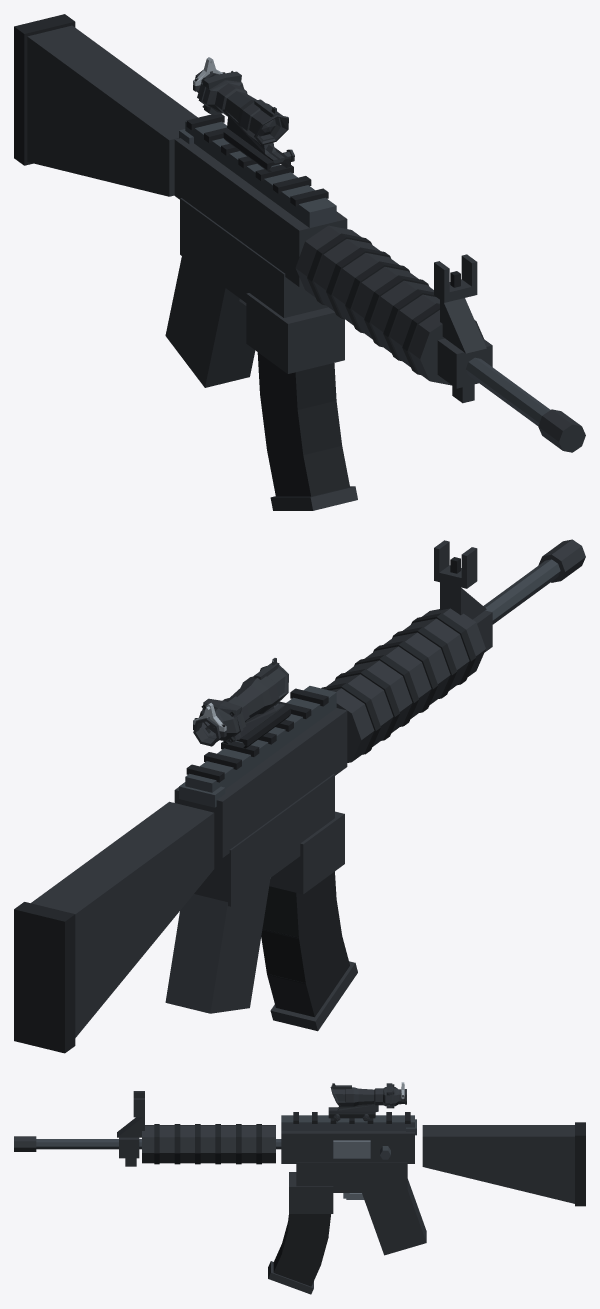
The model's file is wpn_m16_acog.fbx.
3 views of the same model, one above another, from view 1: azimuth 30°, elevation 25°; view 2: azimuth 150°, elevation 25°; view 3: azimuth 270°, elevation 25° (orthographic). The views are drawn at different scales.
Parts seen in each view (by area): view 1: wpn_m16_acog; view 2: wpn_m16_acog; view 3: wpn_m16_acog.
Boxes of the visible parts, x1,y1,x2,y2 form: wpn_m16_acog: (14, 14, 585, 510); wpn_m16_acog: (14, 539, 585, 1053); wpn_m16_acog: (14, 1082, 585, 1294).
Bounding box in the file's own units: 25.5 × 123 × 308.
